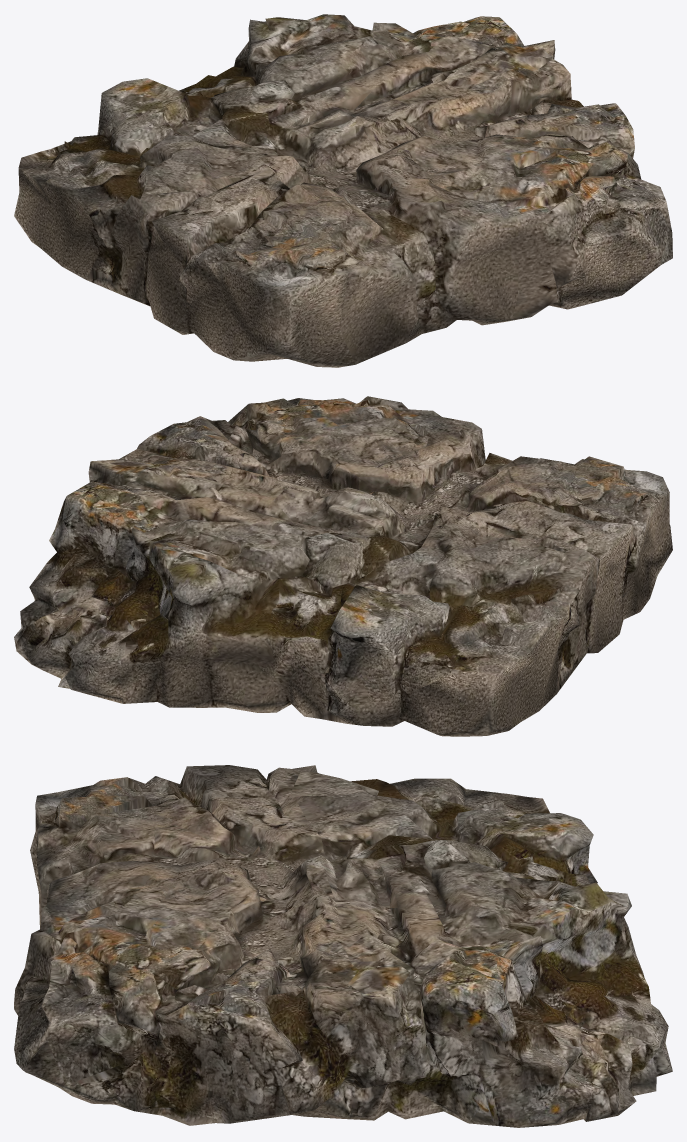
File: laja.glb
3 views of the same model, one above another, from view 1: azimuth 30°, elevation 25°; view 2: azimuth 150°, elevation 25°; view 3: azimuth 270°, elevation 25° (orthographic). The views are drawn at different scales.
Visible parts, largest first — view 1: tripo_node_f24ada4d-9301-4c4c-bbb0-cbe2b9939dff; view 2: tripo_node_f24ada4d-9301-4c4c-bbb0-cbe2b9939dff; view 3: tripo_node_f24ada4d-9301-4c4c-bbb0-cbe2b9939dff.
Boxes of the visible parts, x1=… form: tripo_node_f24ada4d-9301-4c4c-bbb0-cbe2b9939dff: x1=14, y1=14, x2=672, y2=367; tripo_node_f24ada4d-9301-4c4c-bbb0-cbe2b9939dff: x1=14, y1=396, x2=672, y2=736; tripo_node_f24ada4d-9301-4c4c-bbb0-cbe2b9939dff: x1=14, y1=765, x2=672, y2=1127.
Bounding box in the file's own units: 0.9814 × 0.2506 × 0.9973.
1 material, 1 textured.
